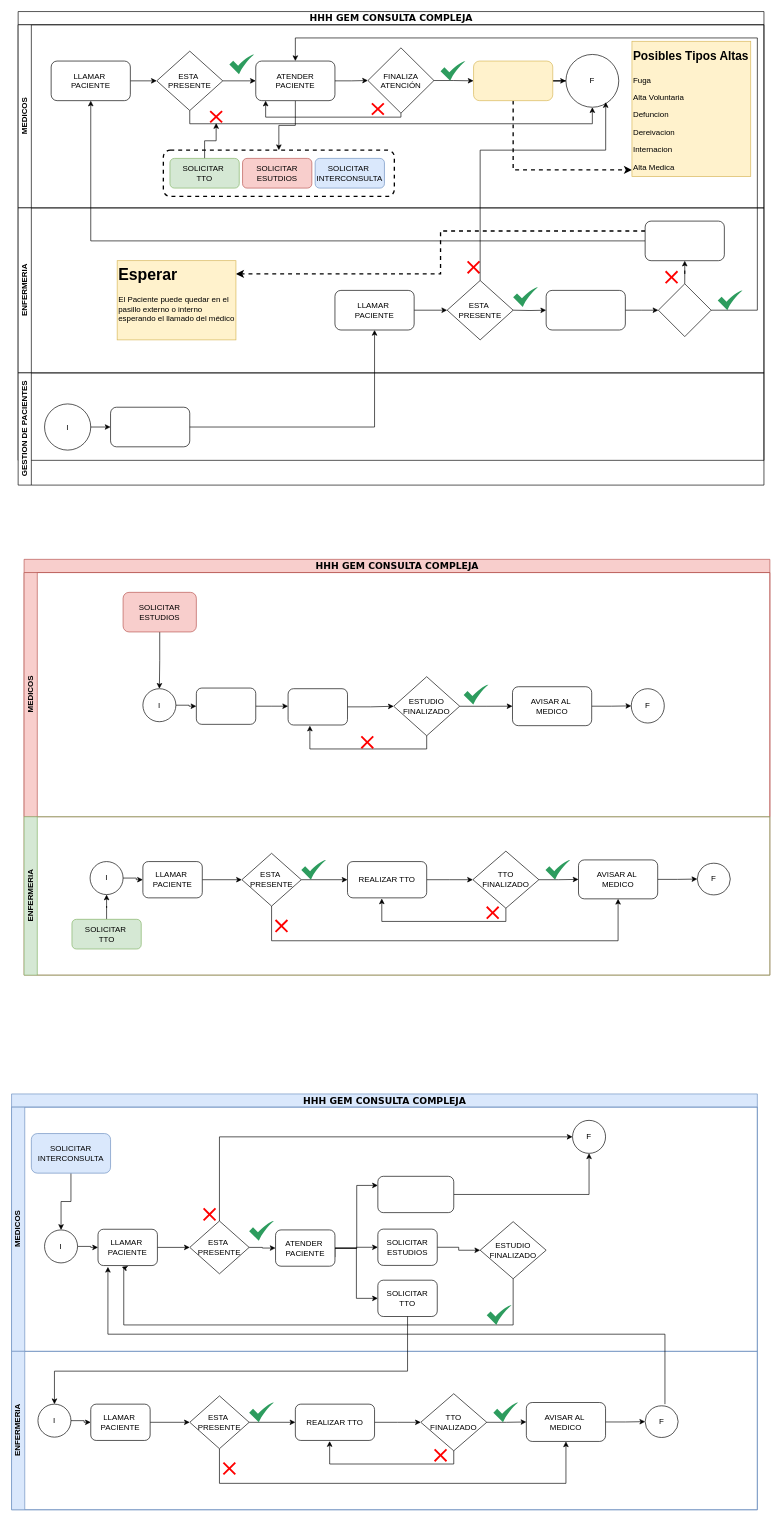
Image size: 781x1521. Some labels were removed from this diagram. The centre of each missing label's shape, as x and y in pixels:
"ESPERAR ATENCION MEDICA" goes at [684,240].
"ESPERAR ESTUDIO" goes at [317,706].
"FINALIZA INTERCONSULTA" goes at [415,1194].
"FINALIZAR ATENCIÓN" goes at [513,80].
"REALIZAR TRIAJE" goes at [585,310].
"RECEPCIONAR PACIENTES" goes at [150,427].
"Shocroom" goes at [684,310].
"SOLICITAR ESTUDIO" goes at [226,705].
